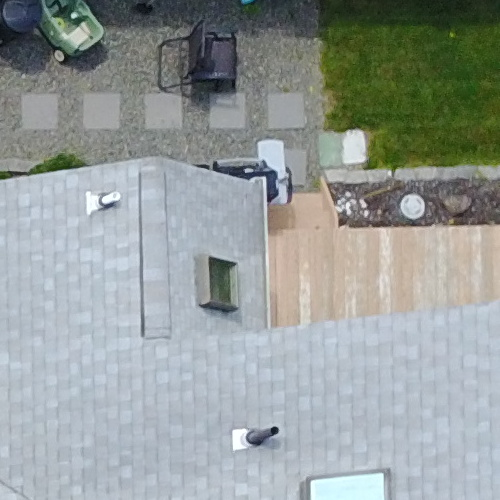container: (27, 1, 120, 70)
